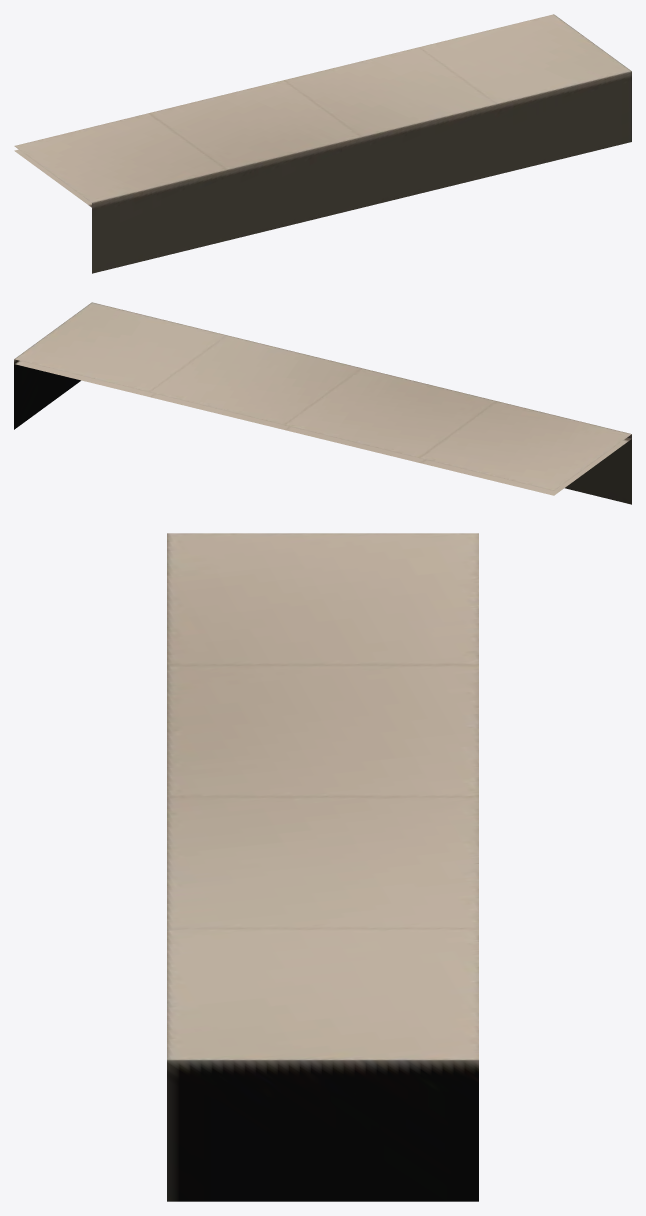
The model's file is front-fill.glb.
The picture shows the model from 3 angles, top to bottom: view 1: azimuth 30°, elevation 25°; view 2: azimuth 150°, elevation 25°; view 3: azimuth 270°, elevation 25°; orthographic projection. The views are drawn at different scales.
Visible parts, largest first — view 1: frontFill; view 2: frontFill; view 3: frontFill.
Boxes of the visible parts, x1,y1,x2,y2 form: frontFill: (14, 14, 631, 273); frontFill: (14, 302, 631, 504); frontFill: (167, 533, 478, 1201).
Size of the model in its own units: 2.4 by 0.3 by 0.6.
1 material, 1 textured.
